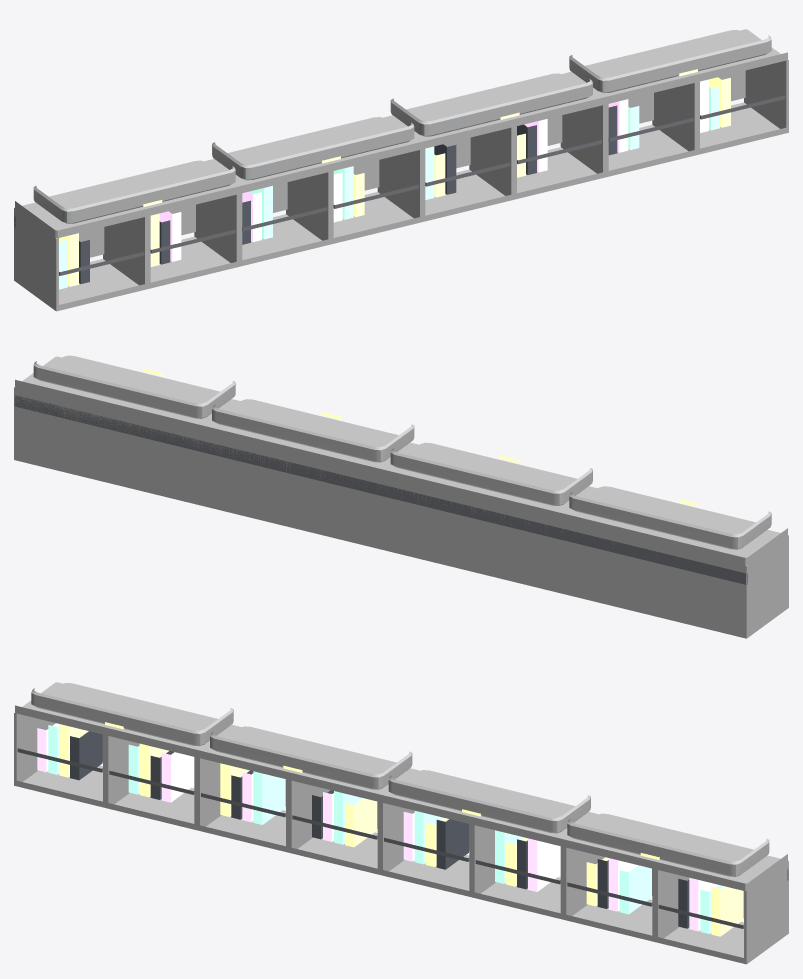
The model's file is iter_03.glb.
3 views of the same model, one above another, from view 1: azimuth 30°, elevation 25°; view 2: azimuth 150°, elevation 25°; view 3: azimuth 330°, elevation 25° (orthographic).
Parts seen in each view (by area): view 1: Cushions, Cubby_Dividers, Cubby_Floor, Seat_Slab, Cubby_Back, Books_0, Retainer_Bars, Books_1, Books_2, Books_3; view 2: Cubby_Back, Cushions, Seat_Slab, Wall_Rail, Cubby_Dividers, Cubby_Floor; view 3: Cushions, Cubby_Dividers, Cubby_Floor, Seat_Slab, Books_1, Books_0, Books_2, Books_3, Retainer_Bars.
Boxes of the visible parts, x1,y1,x2,y2 form: Cushions: [33, 30, 771, 223]; Cubby_Dividers: [14, 60, 788, 311]; Cubby_Floor: [14, 102, 788, 310]; Seat_Slab: [15, 29, 787, 238]; Cubby_Back: [14, 70, 745, 275]; Books_0: [159, 79, 708, 261]; Retainer_Bars: [59, 95, 785, 275]; Books_1: [59, 86, 719, 289]; Books_2: [56, 77, 730, 286]; Books_3: [79, 105, 617, 283]; Cubby_Back: [14, 387, 746, 632]; Cushions: [33, 355, 771, 549]; Seat_Slab: [15, 356, 787, 565]; Wall_Rail: [14, 395, 747, 584]; Cubby_Dividers: [14, 387, 788, 638]; Cubby_Floor: [16, 455, 788, 637]; Cushions: [31, 683, 769, 876]; Cubby_Dividers: [14, 713, 788, 964]; Cubby_Floor: [14, 765, 788, 963]; Seat_Slab: [15, 682, 787, 891]; Books_1: [48, 725, 723, 933]; Books_0: [37, 723, 718, 931]; Books_2: [59, 724, 743, 936]; Books_3: [70, 731, 689, 928]; Retainer_Bars: [17, 748, 743, 928].
Size of the model in its own units: 4 by 0.5 by 0.4.
